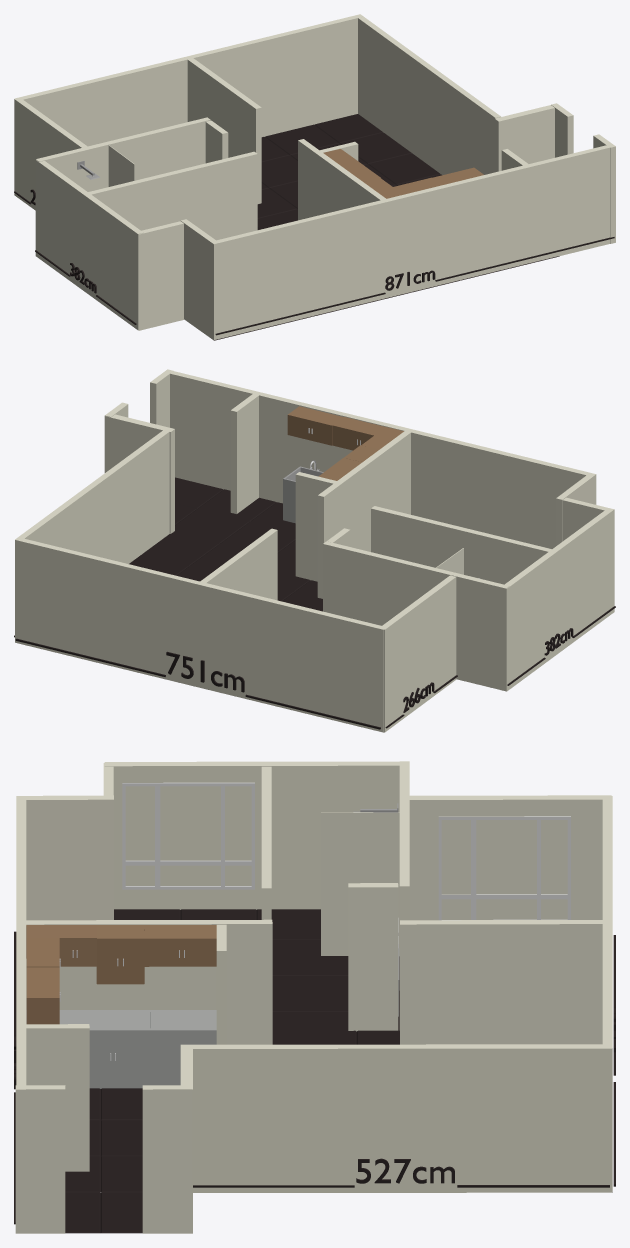
The picture shows the model from 3 angles, top to bottom: view 1: azimuth 30°, elevation 25°; view 2: azimuth 150°, elevation 25°; view 3: azimuth 270°, elevation 25°; orthographic projection. The views are drawn at different scales.
Parts seen in each view (by area): view 1: leftwall, rightwall, frontwall, backwall, crleftwall, floor, leftcrwall, b2swall, salawall, b2wall, b1wall, b2mwall (+8 smaller); view 2: rightwall, leftwall, leftcrwall, backwall, frontwall, floor, b1wall, crleftwall, b2wall, sinkwall, salawall, diningwall (+11 smaller); view 3: frontwall, backwall, salawall, b1wall, floor, b2wall, b2mwall, showerGlass, leftentrancewall, rightentrancewall, crentrywall, sinkwall (+20 smaller).
Part boxes in pixels (<box>): leftwall: <box>211,144,613,340</box>; rightwall: <box>15,14,362,146</box>; frontwall: <box>358,15,500,175</box>; backwall: <box>35,160,143,330</box>; crleftwall: <box>88,151,257,240</box>; floor: <box>214,114,559,340</box>; leftcrwall: <box>36,117,210,191</box>; b2swall: <box>138,221,183,330</box>; salawall: <box>187,58,261,203</box>; b2wall: <box>298,139,385,220</box>; b1wall: <box>14,99,87,210</box>; b2mwall: <box>181,219,215,339</box>; rightwall: <box>15,537,386,732</box>; leftwall: <box>165,370,596,548</box>; leftcrwall: <box>323,541,509,691</box>; backwall: <box>505,508,614,691</box>; frontwall: <box>15,430,169,563</box>; floor: <box>129,489,322,611</box>; b1wall: <box>382,575,456,732</box>; crleftwall: <box>371,506,551,584</box>; b2wall: <box>317,431,410,598</box>; sinkwall: <box>230,394,258,513</box>; salawall: <box>200,528,277,600</box>; diningwall: <box>295,472,336,581</box>; frontwall: <box>193,1044,611,1192</box>; backwall: <box>104,761,399,909</box>; salawall: <box>400,920,602,1044</box>; b1wall: <box>409,795,611,920</box>; floor: <box>65,940,612,1192</box>; b2wall: <box>26,919,272,1044</box>; b2mwall: <box>26,795,113,920</box>; showerGlass: <box>321,812,399,955</box>; leftentrancewall: <box>142,1085,192,1233</box>; rightentrancewall: <box>15,1085,65,1233</box>; crentrywall: <box>348,883,398,1031</box>; sinkwall: <box>26,1024,89,1171</box>.
Bounding box in the file's own units: 9.79 × 2.02 × 7.57.
